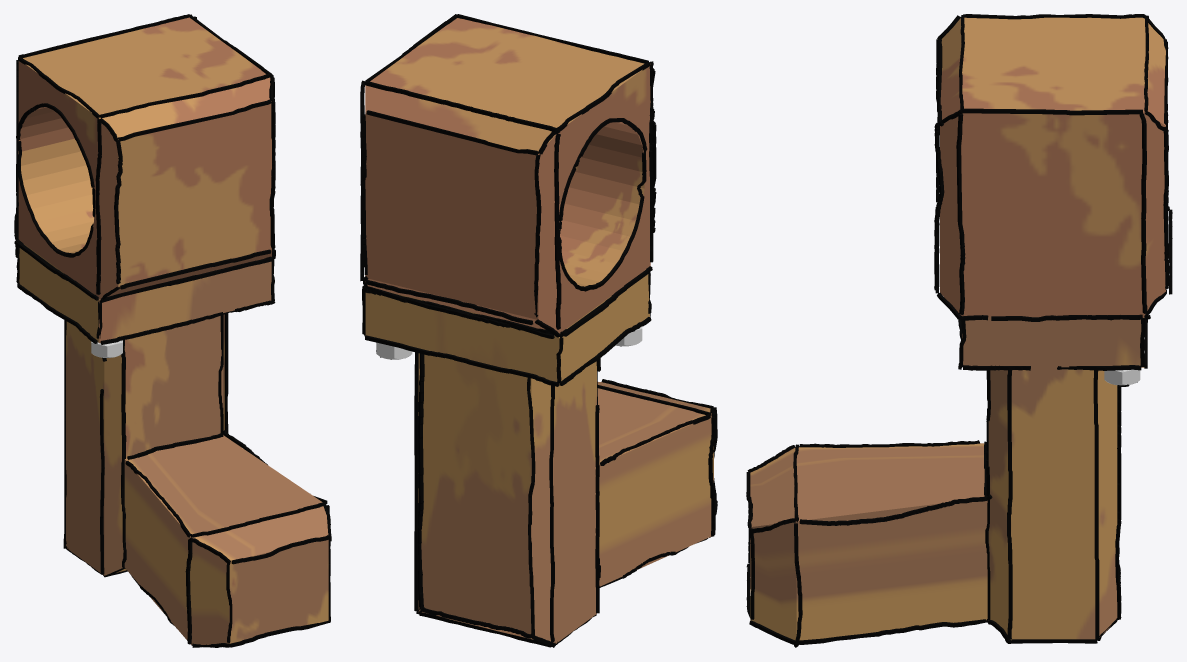
Rendered from minimalistic walking leg put together.fbx.
The picture shows the model from 3 angles, left to right: view 1: azimuth 30°, elevation 25°; view 2: azimuth 150°, elevation 25°; view 3: azimuth 270°, elevation 25°; orthographic projection. The views are drawn at different scales.
Visible parts, largest first — view 1: feet, Feet top, feet outline, feet top outline; view 2: feet, Feet top, feet outline, feet top outline; view 3: feet, Feet top, feet outline, feet top outline.
Boxes of the visible parts, box(x1,y1,x2,y2) form: feet: box(19, 244, 328, 644); Feet top: box(18, 17, 271, 298); feet outline: box(15, 239, 331, 647); feet top outline: box(14, 14, 275, 301); feet: box(365, 274, 713, 643); Feet top: box(365, 18, 650, 333); feet outline: box(362, 266, 717, 647); feet top outline: box(360, 14, 656, 338); feet: box(750, 317, 1144, 640); Feet top: box(940, 17, 1165, 316); feet outline: box(746, 314, 1147, 647); feet top outline: box(934, 14, 1172, 320).
Size of the model in its own units: 15.22 by 38.65 by 27.22.
